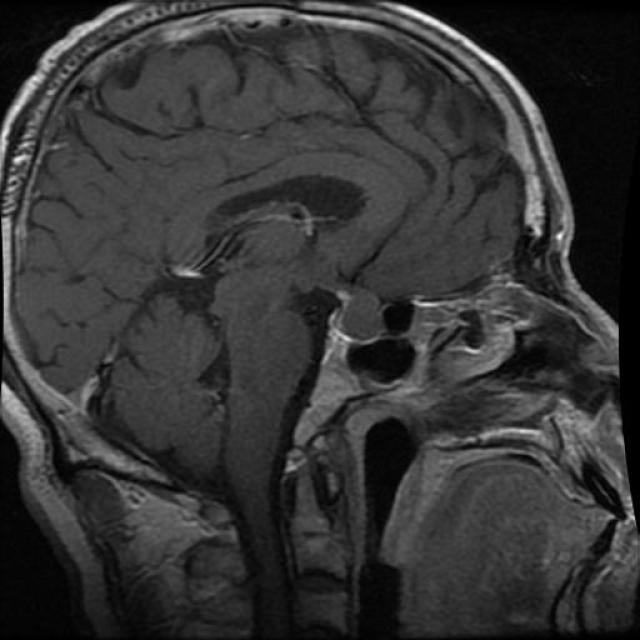pituitary: (298, 235, 418, 368)
